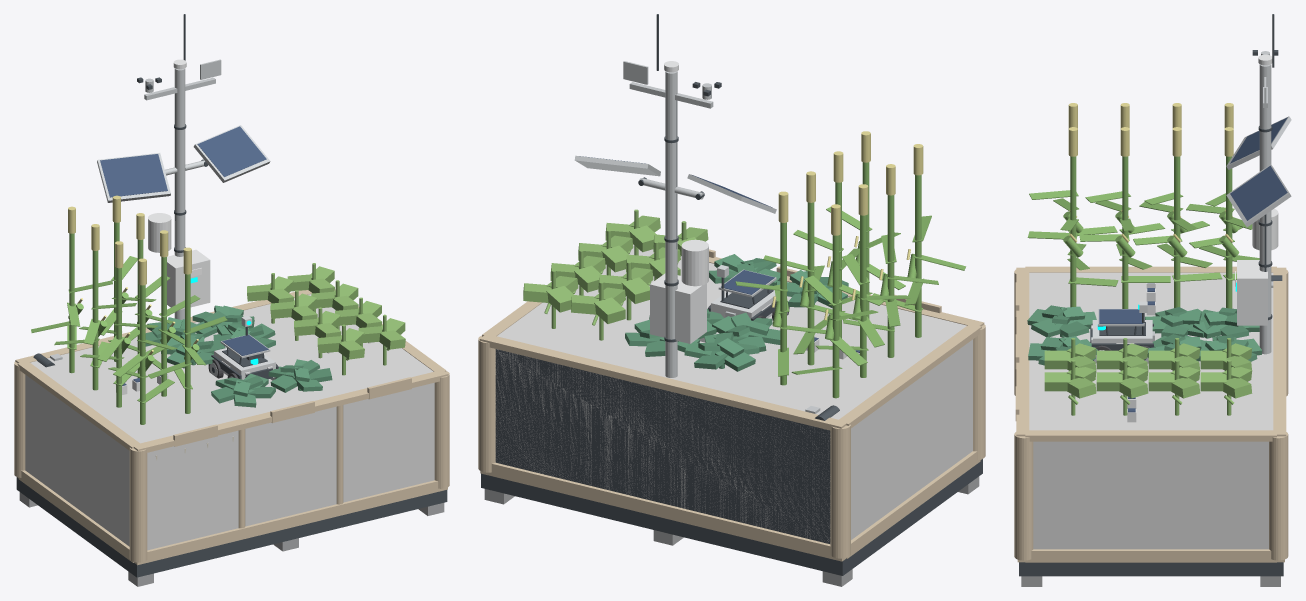
File: agrigcs_platform.glb
3 renders of one model, left to right at view 1: azimuth 30°, elevation 25°; view 2: azimuth 150°, elevation 25°; view 3: azimuth 270°, elevation 25°, orthographic. The views are drawn at different scales.
Visible parts, largest first — view 1: Ref_Bounding_Box_3x2x1.2m, Platform_Chassis_Base, Platform_Wood_Base_Rim_Front, Solar_PV_Cell_Bed, Weather_Mast_Column, Platform_Corner_Column_01, Platform_Wood_Top_Coping_Front, Solar_PV_Cell_Bed_Right, Platform_Wood_Top_Coping_Left, Weather_Gateway_Enclosure, Platform_Corner_Column_02, Platform_Wood_Base_Rim_Left (+18 smaller); view 2: Ref_Bounding_Box_3x2x1.2m, Platform_Retaining_Wall_Rear, Platform_Chassis_Base, Platform_Wood_Base_Rim_Rear, Platform_Wood_Top_Coping_Rear, Weather_Mast_Column, Platform_Corner_Column_03, Weather_Gateway_Enclosure, Platform_Wood_Top_Coping_Left, Platform_Corner_Column_04, Platform_Wood_Base_Rim_Left, Platform_Corner_Column_01 (+10 smaller); view 3: Ref_Bounding_Box_3x2x1.2m, Platform_Chassis_Base, Platform_Wood_Base_Rim_Right, Platform_Wood_Top_Coping_Right, Platform_Corner_Column_04, Platform_Corner_Column_02, Weather_Mast_Column, Platform_Wood_Top_Coping_Rear, Platform_Wood_Top_Coping_Front, Weather_Gateway_Enclosure, Solar_PV_Cell_Bed_Right, Platform_Wood_Top_Coping_Left (+25 smaller).
Boxes of the visible parts, x1,y1,x2,y2 form: Ref_Bounding_Box_3x2x1.2m: (25, 294, 434, 550); Platform_Chassis_Base: (16, 477, 447, 577); Platform_Wood_Base_Rim_Front: (134, 480, 447, 565); Solar_PV_Cell_Bed: (100, 154, 167, 197); Weather_Mast_Column: (174, 68, 185, 319); Platform_Corner_Column_01: (129, 447, 147, 562); Platform_Wood_Top_Coping_Front: (132, 371, 448, 452); Solar_PV_Cell_Bed_Right: (197, 126, 266, 176); Platform_Wood_Top_Coping_Left: (17, 361, 141, 450); Weather_Gateway_Enclosure: (167, 249, 210, 309); Platform_Corner_Column_02: (434, 371, 449, 488); Platform_Wood_Base_Rim_Left: (18, 470, 133, 562); Ref_Bounding_Box_3x2x1.2m: (495, 244, 972, 543); Platform_Retaining_Wall_Rear: (495, 349, 830, 543); Platform_Chassis_Base: (481, 459, 982, 575); Platform_Wood_Base_Rim_Rear: (480, 462, 846, 561); Platform_Wood_Top_Coping_Rear: (479, 334, 846, 430); Weather_Mast_Column: (665, 71, 677, 377); Platform_Corner_Column_03: (830, 424, 850, 558); Weather_Gateway_Enclosure: (650, 273, 706, 343); Platform_Wood_Top_Coping_Left: (837, 324, 981, 428); Platform_Corner_Column_04: (478, 335, 495, 472); Platform_Wood_Base_Rim_Left: (846, 451, 980, 558); Platform_Corner_Column_01: (973, 324, 985, 459); Ref_Bounding_Box_3x2x1.2m: (1029, 272, 1273, 549); Platform_Chassis_Base: (1019, 562, 1283, 576); Platform_Wood_Base_Rim_Right: (1025, 549, 1276, 562); Platform_Wood_Top_Coping_Right: (1025, 430, 1276, 441); Platform_Corner_Column_04: (1269, 432, 1288, 560); Platform_Corner_Column_02: (1014, 432, 1033, 560); Weather_Mast_Column: (1259, 64, 1271, 354); Platform_Wood_Top_Coping_Rear: (1273, 267, 1286, 436); Platform_Wood_Top_Coping_Front: (1016, 267, 1029, 436); Weather_Gateway_Enclosure: (1237, 260, 1267, 325); Solar_PV_Cell_Bed_Right: (1230, 165, 1287, 220); Platform_Wood_Top_Coping_Left: (1025, 266, 1276, 272).
Size of the model in its own units: 3.12 by 4.21 by 2.14.
